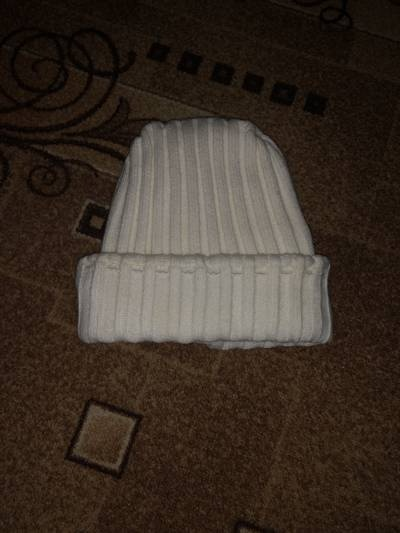Hat: (39, 98, 340, 384)
